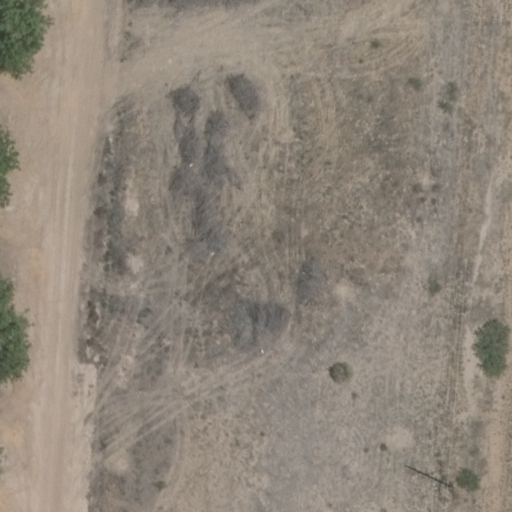DT: (436, 475, 463, 496)
